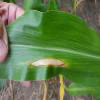Corn leaf blight: (10, 11, 99, 85)
